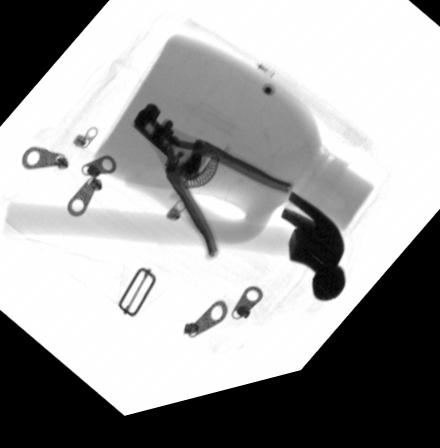Hammer: (3, 202, 346, 319)
Pliers: (132, 110, 292, 272)
